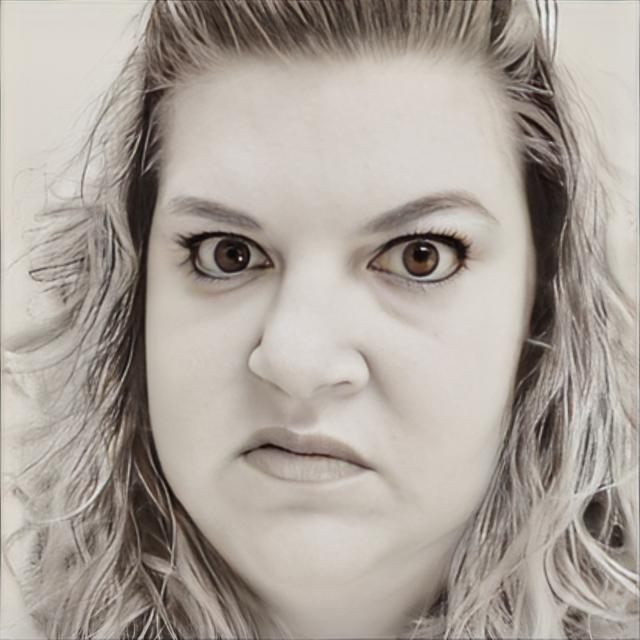anger: (143, 41, 534, 603)
